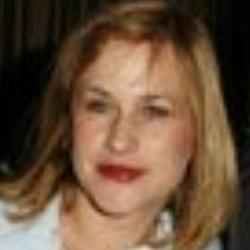face: (12, 5, 241, 234)
